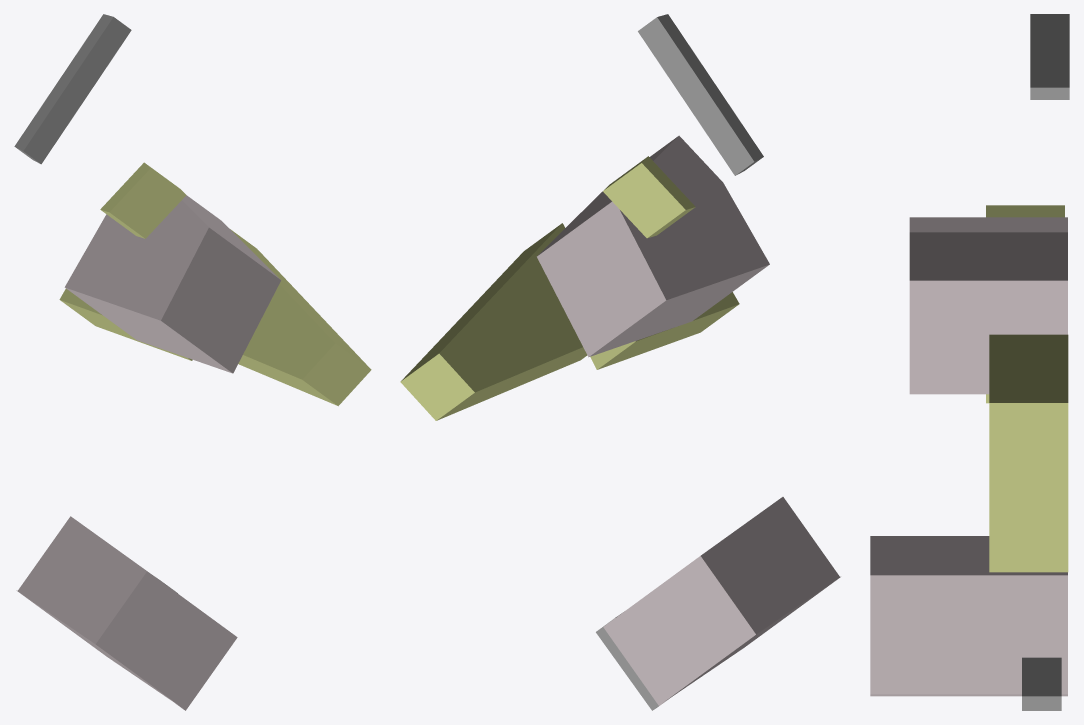
The picture shows the model from 3 angles, left to right: view 1: azimuth 30°, elevation 25°; view 2: azimuth 150°, elevation 25°; view 3: azimuth 270°, elevation 25°; orthographic projection. The views are drawn at different scales.
Parts seen in each view (by area): view 1: 0_2_3_2_2_0_2_3_2; view 2: 0_2_3_2_2_0_2_3_2; view 3: 0_2_3_2_2_0_2_3_2.
Part boxes in pixels (x1=…): 0_2_3_2_2_0_2_3_2: x1=14, y1=14, x2=371, y2=710; 0_2_3_2_2_0_2_3_2: x1=400, y1=14, x2=840, y2=710; 0_2_3_2_2_0_2_3_2: x1=870, y1=14, x2=1069, y2=710.
Size of the model in its own units: 30.7 by 58.29 by 15.13.
